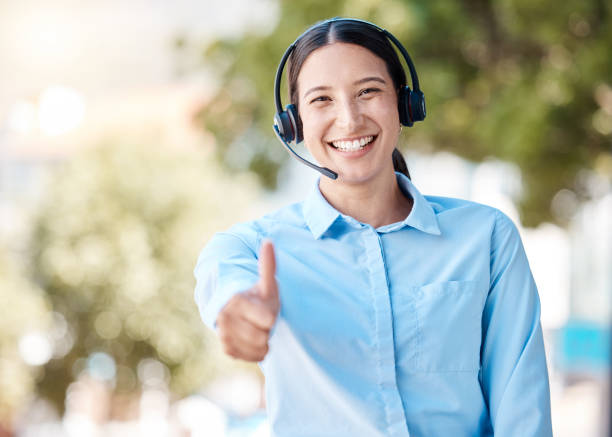thumbsUp: (201, 235, 288, 368)
